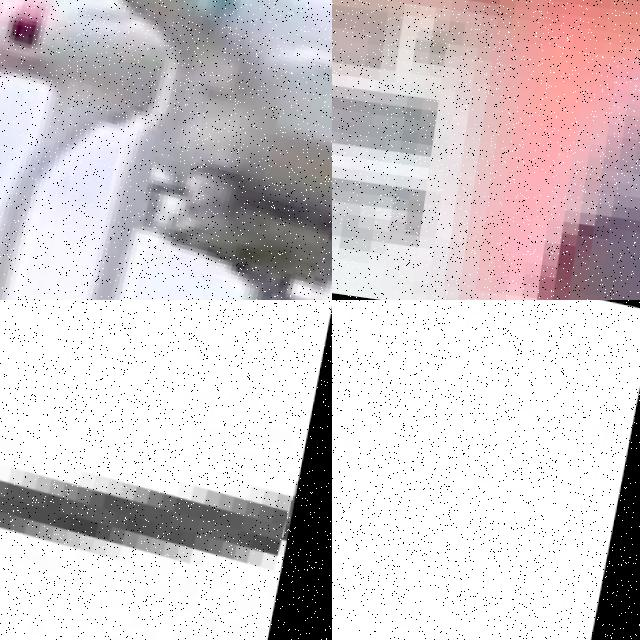drone: (0, 300, 332, 640), (332, 300, 640, 640), (0, 0, 332, 300)
